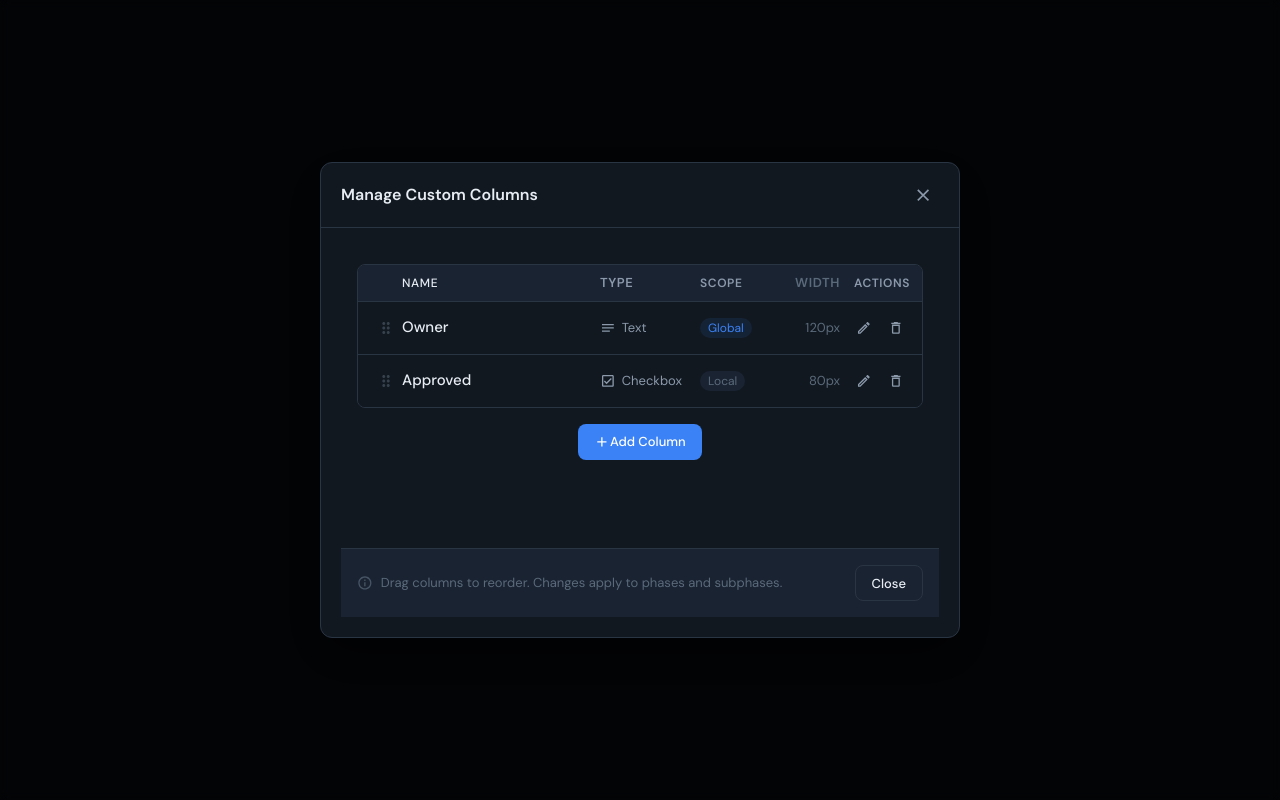
Test: CustomColumnsManagerModal › shows why a delete failed
Click the button titled "Delete column" in the row of "120" at (896, 328), box [882, 314, 910, 342]
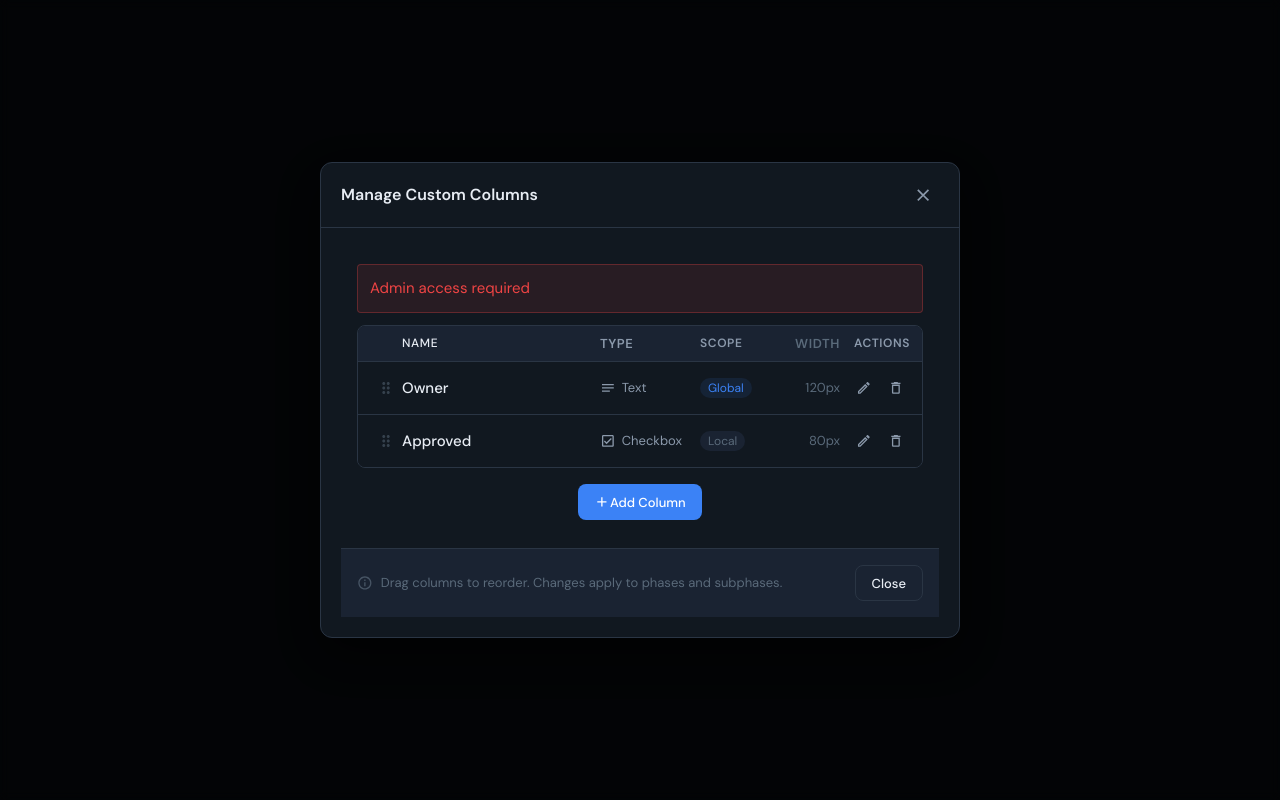
Check: the message reads "Admin access required", box [370, 278, 530, 298]
